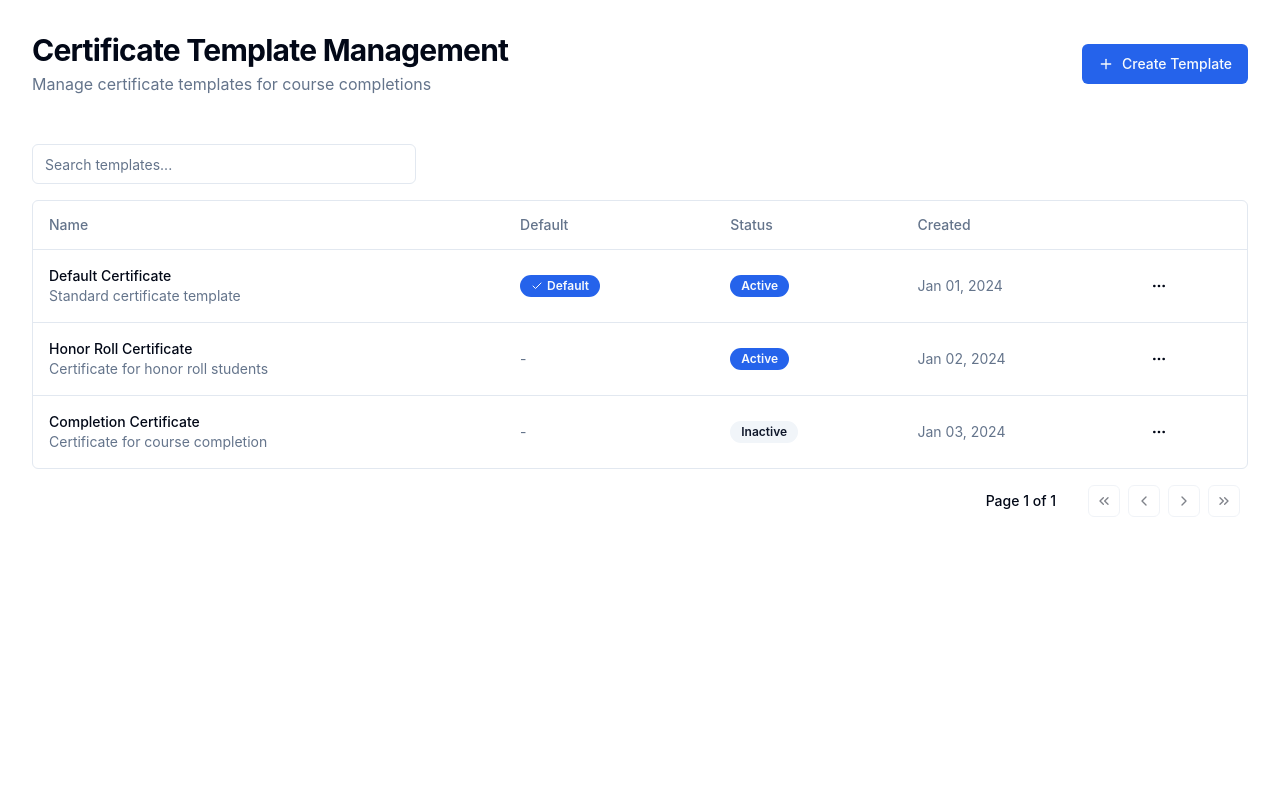
Test case: CertificateTemplateManagementPage › Set Default Template › should show Set as Default option for non-default templates
Check: the text "Honor Roll Certificate" is shown, box [49,340,192,356]
Click the button named "open menu" in the row of "Honor Roll Certificate" at [1159, 358], box [1143,342,1175,374]
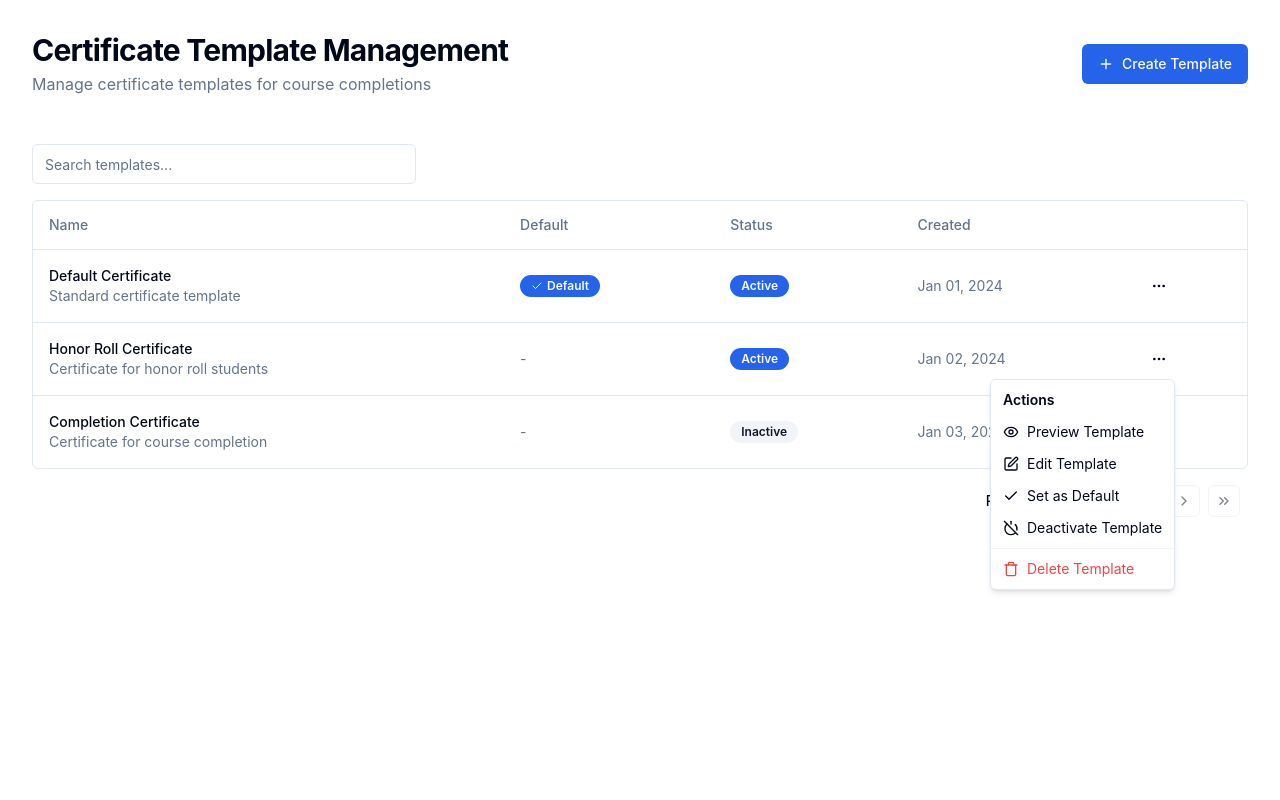
Check: the menu item "Set as Default" is shown, box [1003,487,1119,504]
